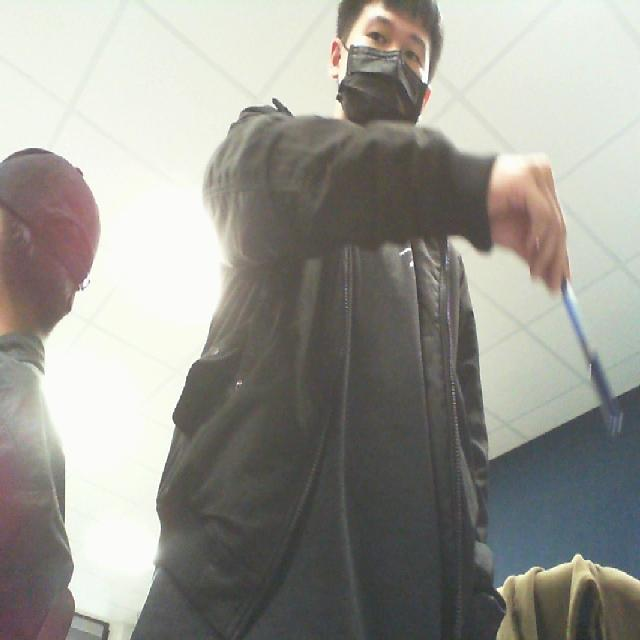Pen: (546, 254, 634, 466)
